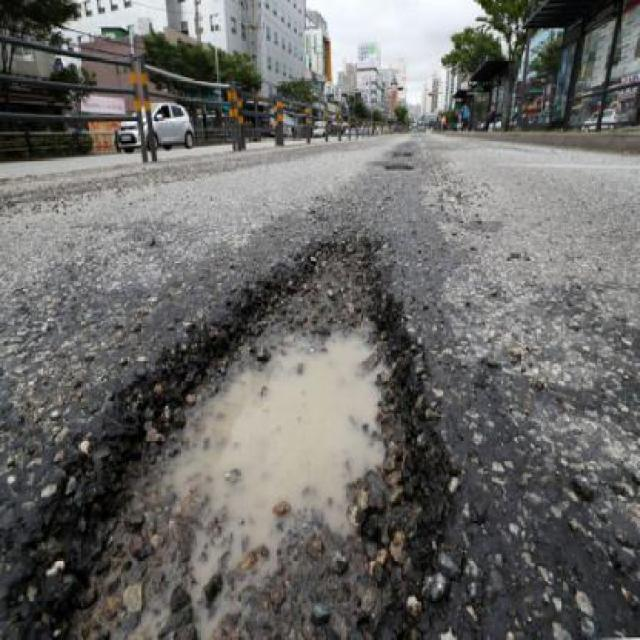Pothole: (68, 226, 440, 639)
